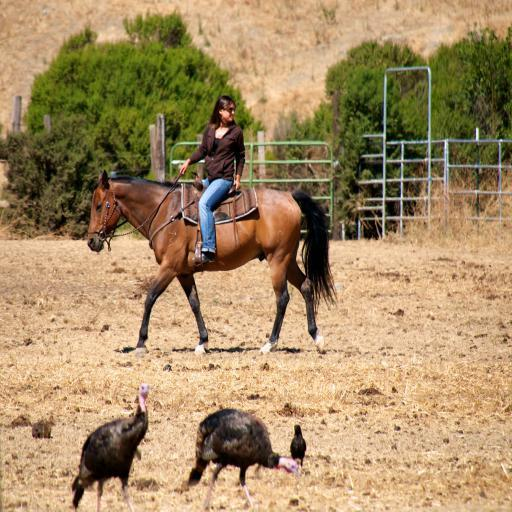horse: (88, 170, 340, 358)
